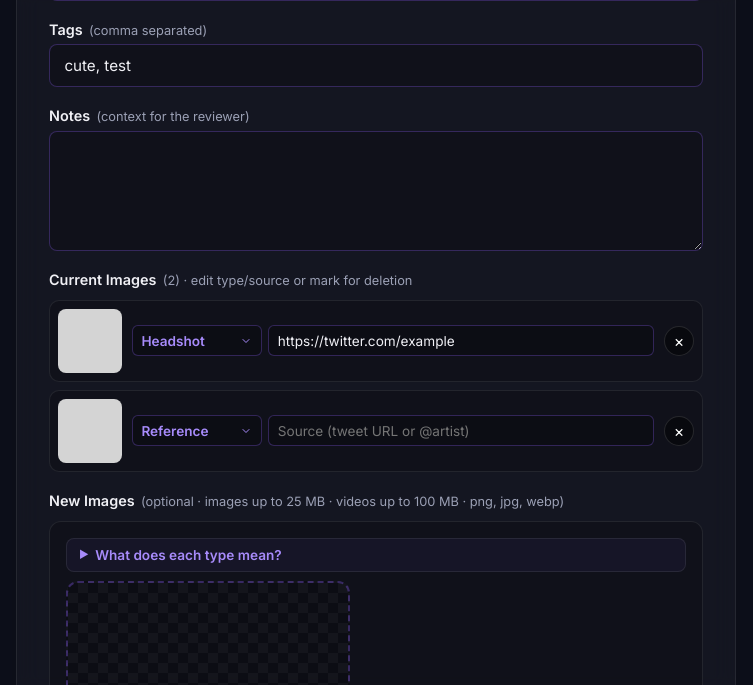
Test: EditDoki › enables submit after marking an existing image for deletion
This screenshot has width=753, height=685.
(page scrolled)
Click the button named "Mark Main Headshot for deletion": [679, 341] box [664,326,694,356]
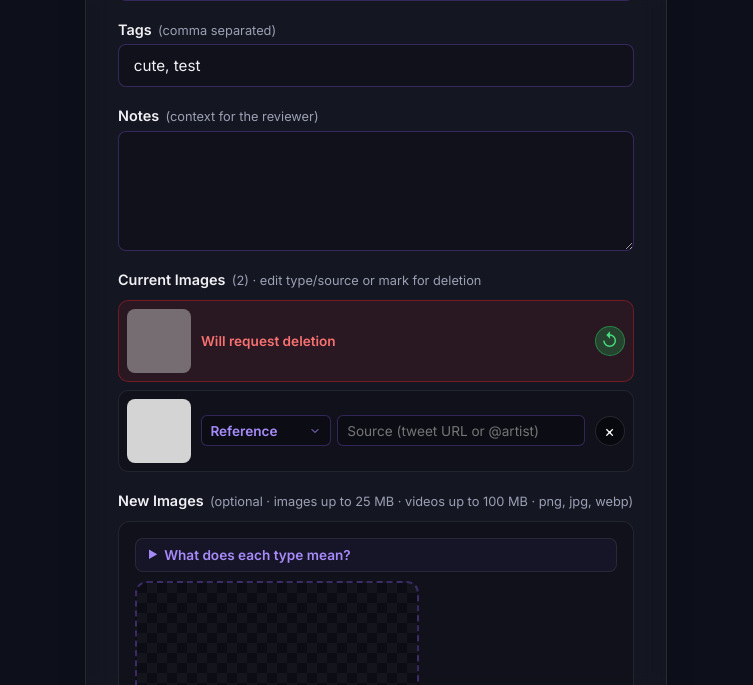
Now the text "Will request deletion" is shown, box [201,333,336,349]
